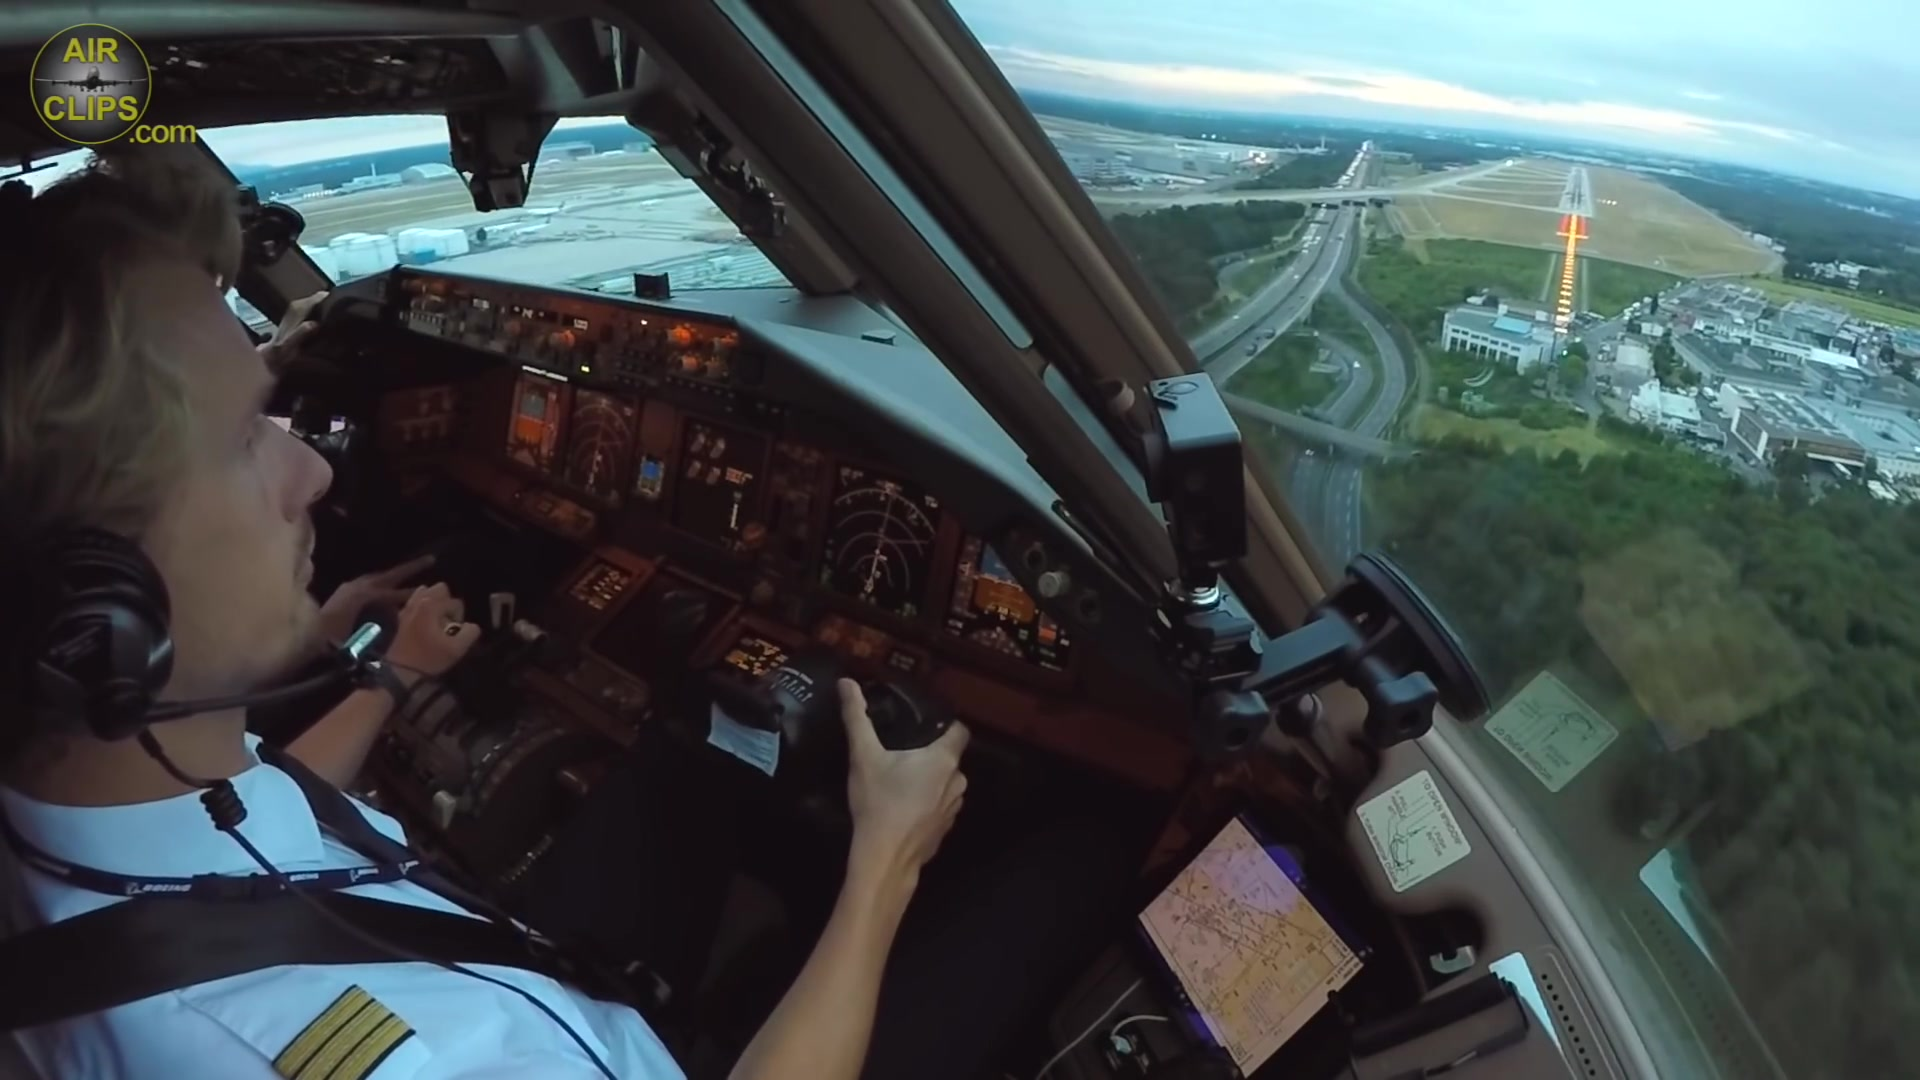runway: (1556, 161, 1598, 218)
